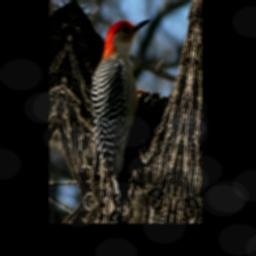Woodpecker: (75, 4, 160, 210)
